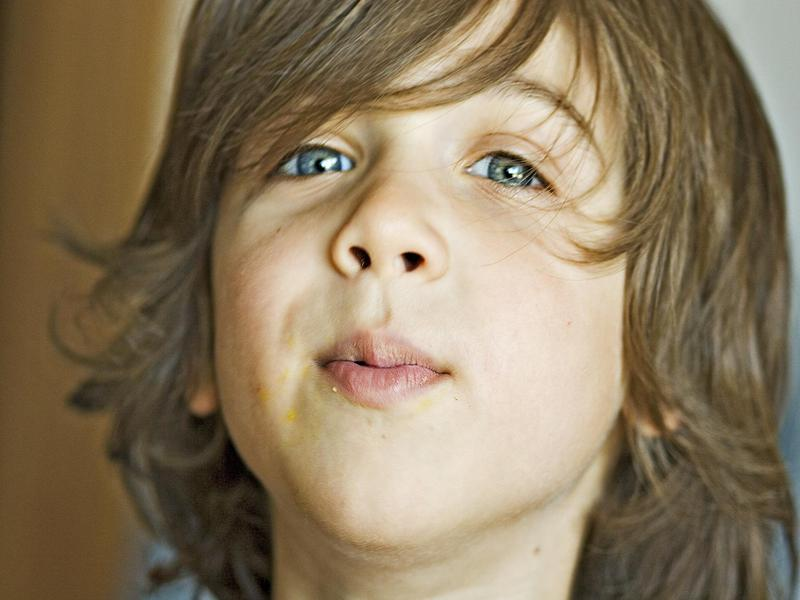person: (120, 1, 780, 600)
